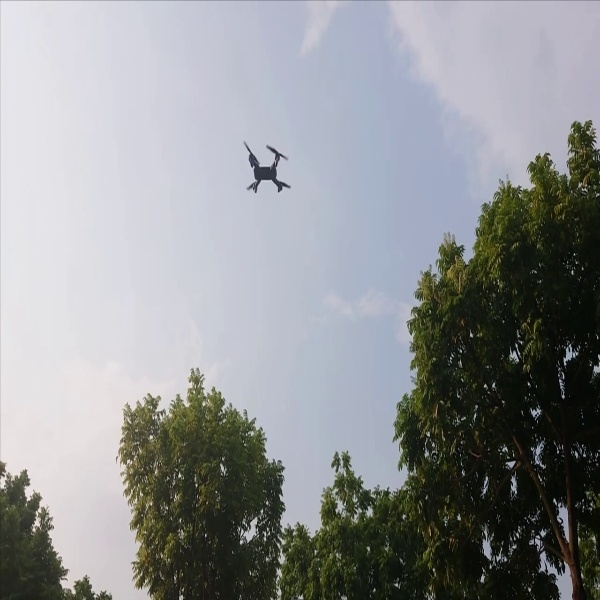drone: (237, 132, 300, 204)
